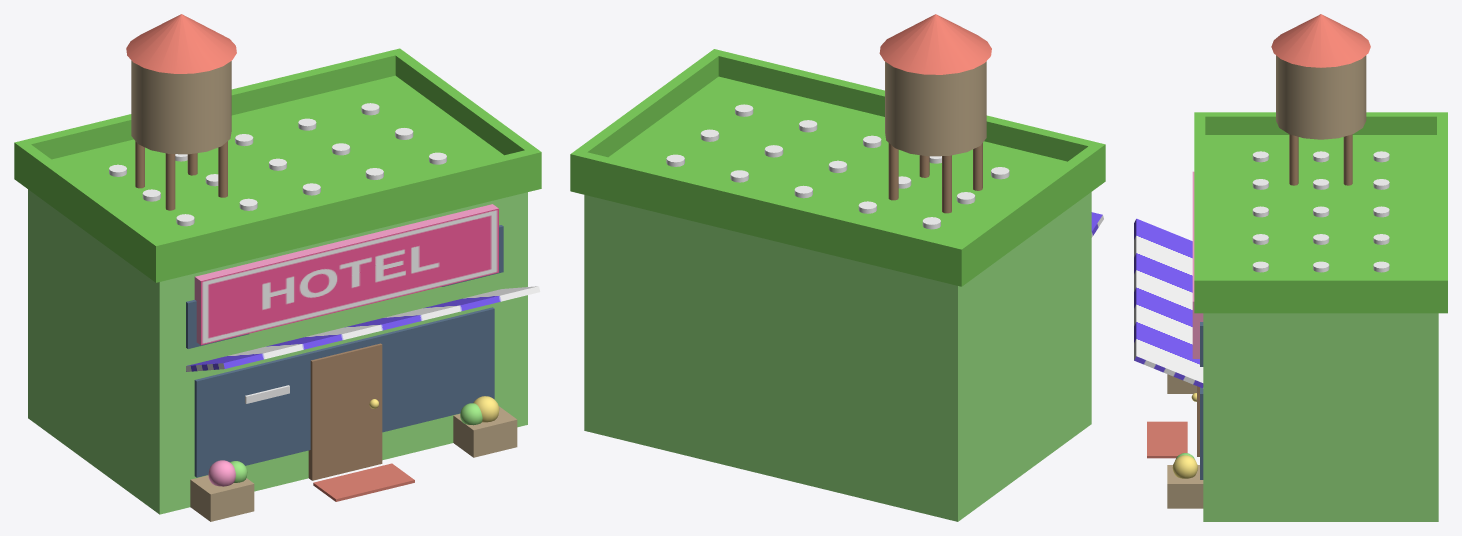
The model's file is shop-hotel.glb.
The picture shows the model from 3 angles, left to right: view 1: azimuth 30°, elevation 25°; view 2: azimuth 150°, elevation 25°; view 3: azimuth 270°, elevation 25°; orthographic projection. The views are drawn at different scales.
Size of the model in its own units: 4.4 by 4.7 by 3.47.
41 materials, 2 textured.
